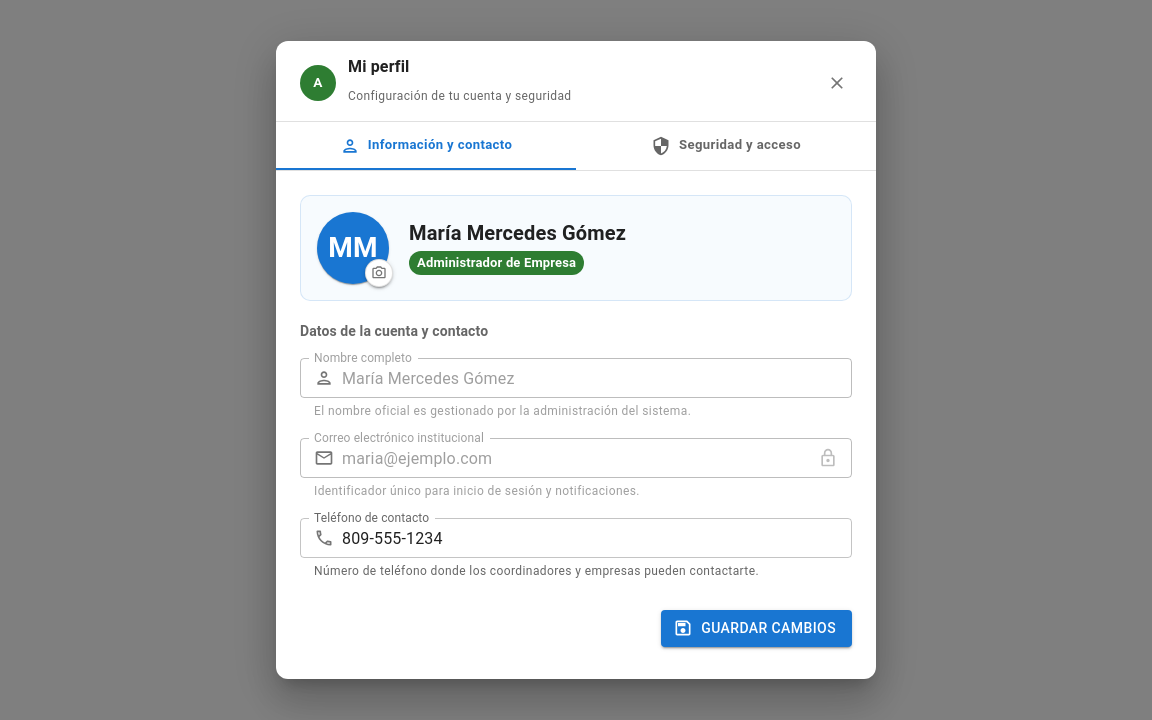
it: DialogPerfil › no muestra la sección de Estado de la aplicación para roles de empresa o coordinador
Step 1. Click the tab "Seguridad y acceso" → (726, 146), box [576,122,876,170]
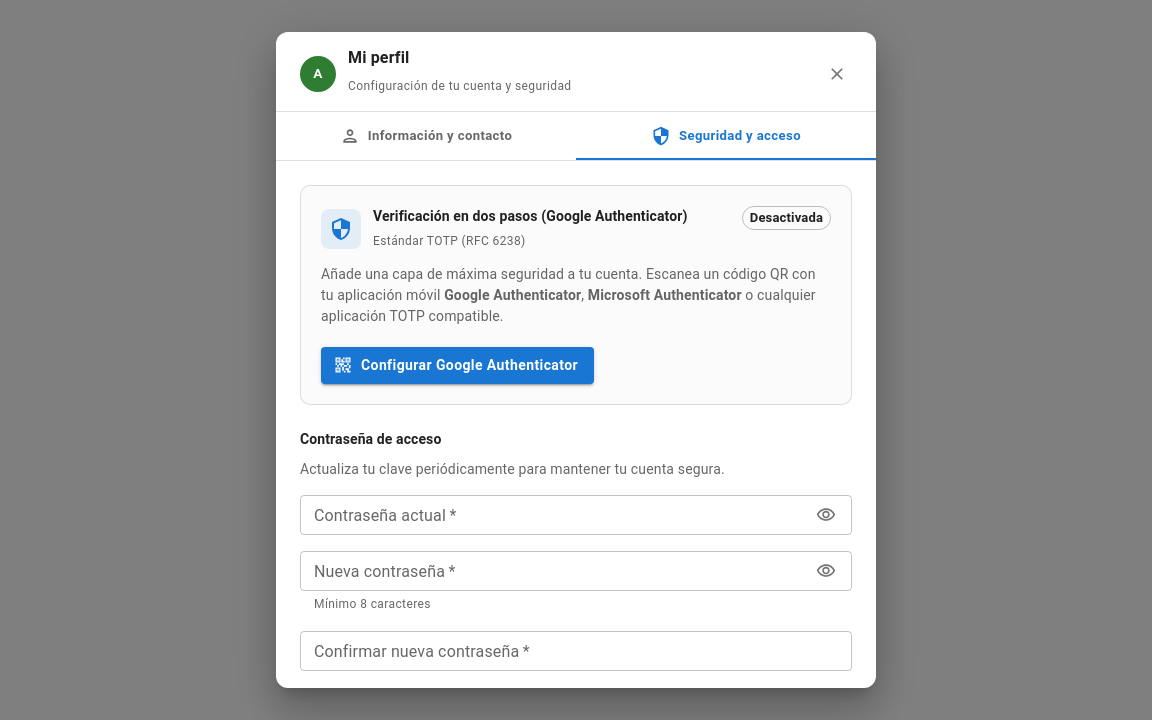
Expected: the heading "Contraseña de acceso" is shown, [300,431,441,447]
